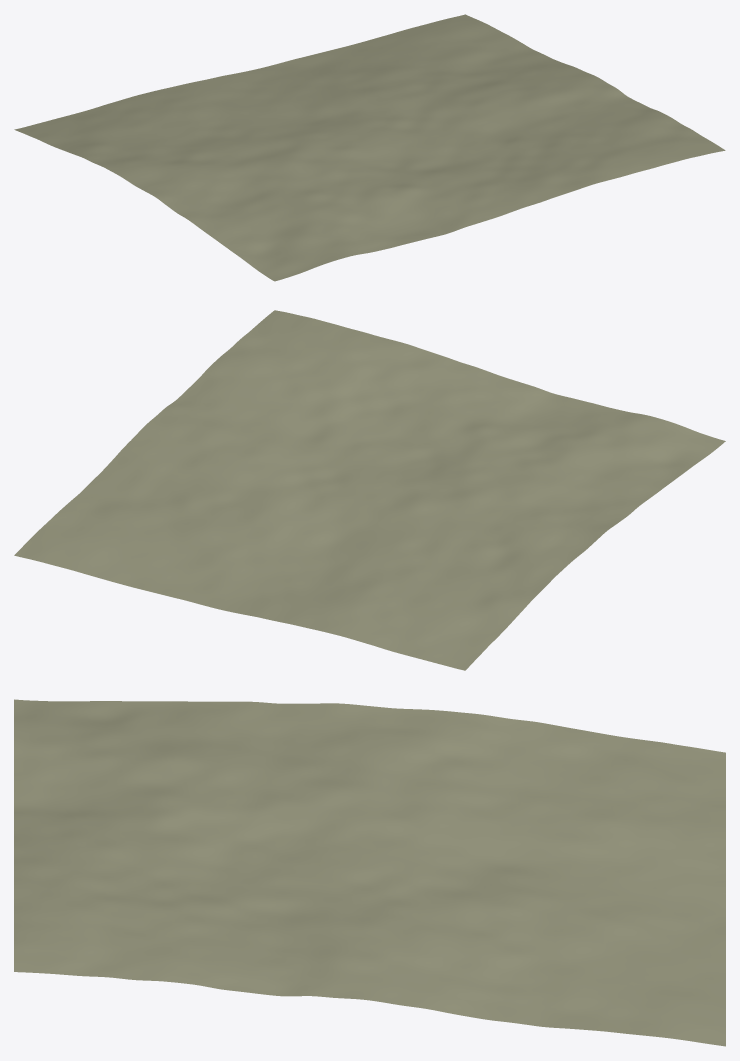
File: SM_VB_Terrain_3_3.fbx
3 renders of one model, top to bottom at view 1: azimuth 30°, elevation 25°; view 2: azimuth 150°, elevation 25°; view 3: azimuth 270°, elevation 25°, orthographic. The views are drawn at different scales.
Visible parts, largest first — view 1: SM_VB_Terrain_3_3; view 2: SM_VB_Terrain_3_3; view 3: SM_VB_Terrain_3_3.
Part boxes in pixels (x1,y1,x2,y2): SM_VB_Terrain_3_3: (14,14,725,281); SM_VB_Terrain_3_3: (14,310,725,670); SM_VB_Terrain_3_3: (14,699,725,1046).
Bounding box in the file's own units: 400 × 51.63 × 400.
